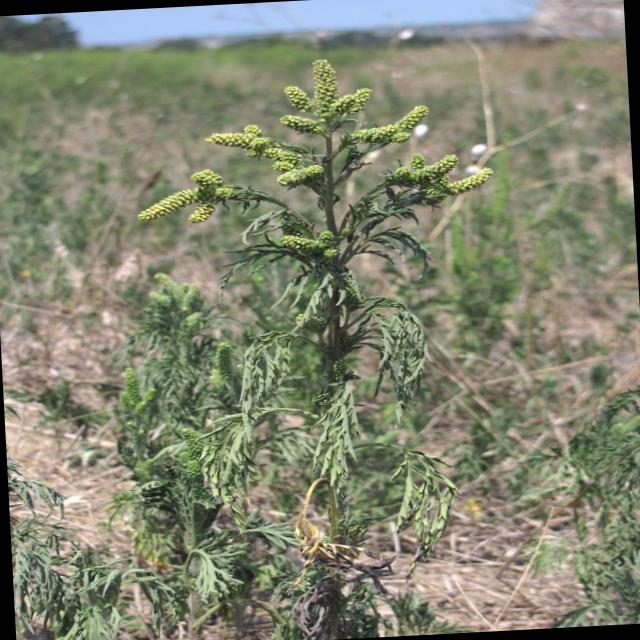ambrosia: (132, 34, 506, 294)
